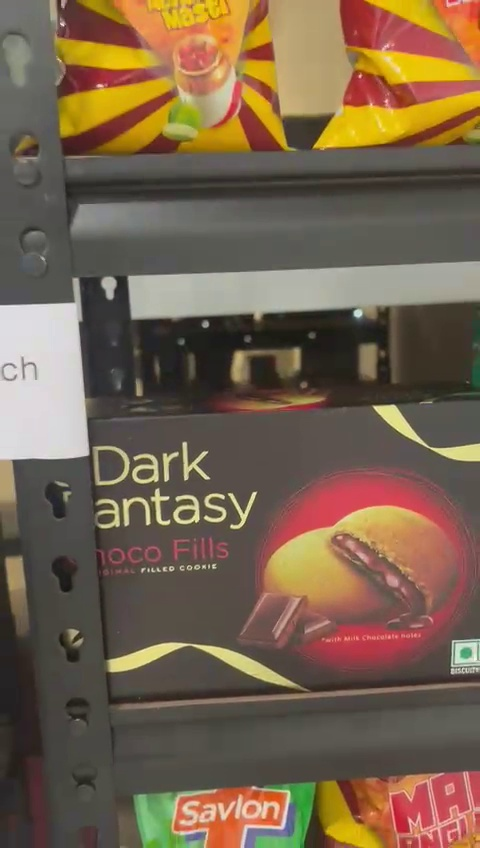Dark Fantasy: (80, 393, 480, 693)
